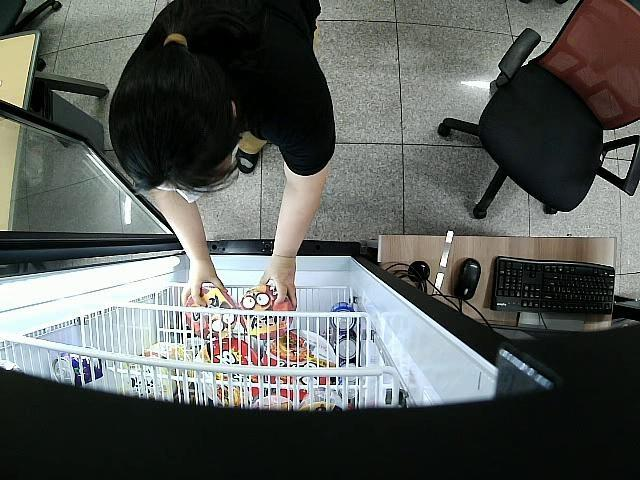05_nuguri_L: (182, 286, 238, 338), (241, 288, 294, 339)
